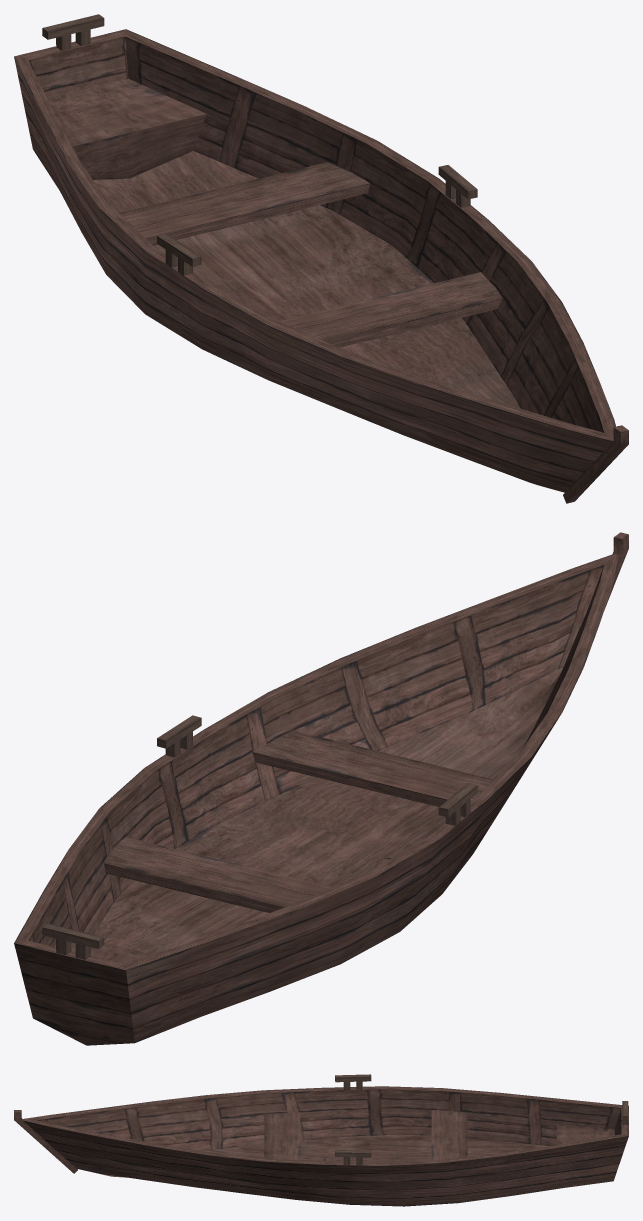
File: Dock_Boat_B_1.gltf
3 renders of one model, top to bottom at view 1: azimuth 30°, elevation 25°; view 2: azimuth 150°, elevation 25°; view 3: azimuth 270°, elevation 25°, orthographic. The views are drawn at different scales.
Parts seen in each view (by area): view 1: Dock_Boat_B_1; view 2: Dock_Boat_B_1; view 3: Dock_Boat_B_1.
Boxes of the visible parts, left/top/right/bottom form: Dock_Boat_B_1: left=14, top=14, right=628, bottom=503; Dock_Boat_B_1: left=14, top=532, right=628, bottom=1045; Dock_Boat_B_1: left=14, top=1074, right=628, bottom=1206.
Bounding box in the file's own units: 1.68 × 0.7162 × 5.47.
2 materials, 2 textured.
